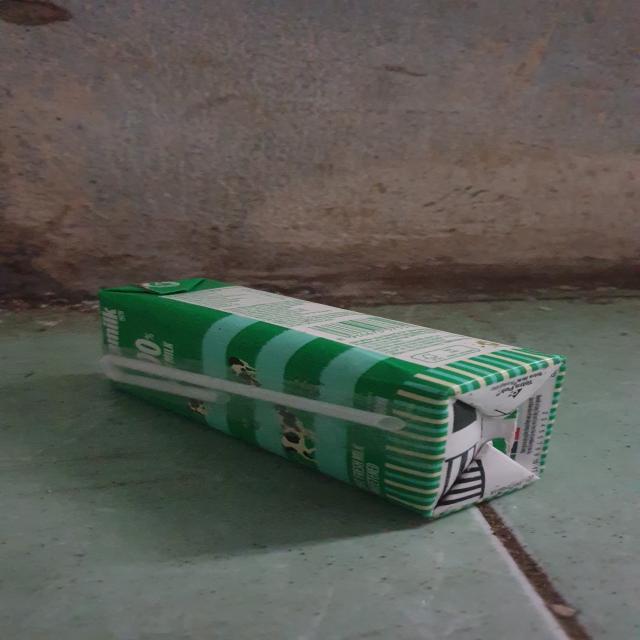Vina: (96, 276, 573, 529)
